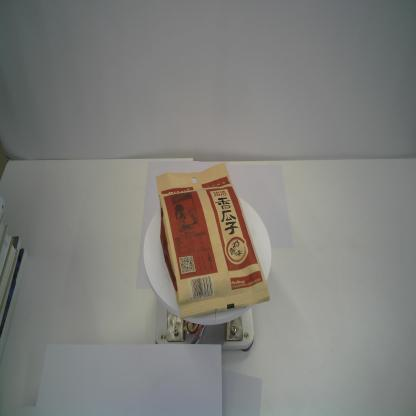Dried Food: (155, 160, 271, 321)
